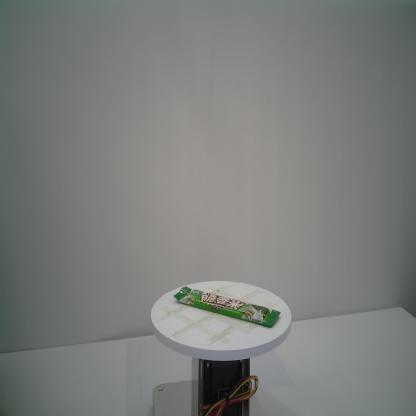Chocolate: (173, 283, 282, 330)
